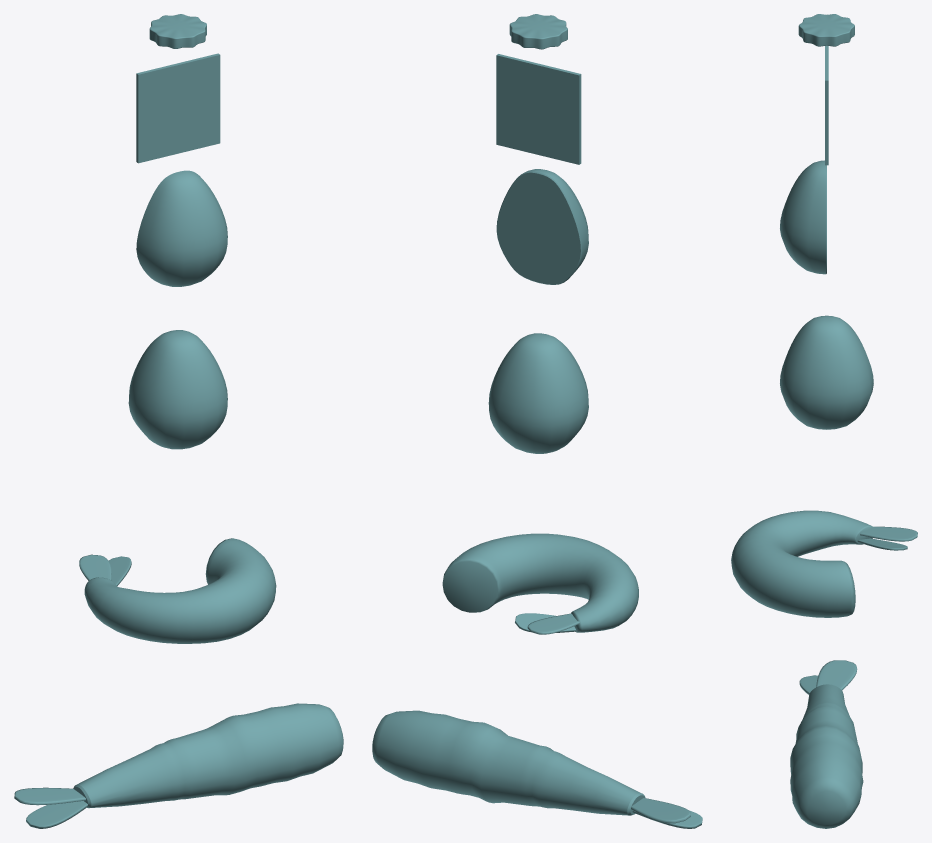
The model's file is SM_INGREDIENTES_RAMEN.fbx.
The picture shows the model from 3 angles, left to right: view 1: azimuth 30°, elevation 25°; view 2: azimuth 150°, elevation 25°; view 3: azimuth 270°, elevation 25°; orthographic projection. The views are drawn at different scales.
Parts seen in each view (by area): view 1: SM_GAMBA_2, SM_GAMBA_1, SM_EGG_2, SM_EGG_3, SM_NORI, SM_NARUTO; view 2: SM_GAMBA_2, SM_GAMBA_1, SM_EGG_2, SM_EGG_3, SM_NORI, SM_NARUTO; view 3: SM_GAMBA_1, SM_GAMBA_2, SM_EGG_2, SM_EGG_3, SM_NARUTO, SM_NORI.
Boxes of the visible parts, <box> form: SM_GAMBA_2: <box>14,703,343,828</box>; SM_GAMBA_1: <box>79,538,276,643</box>; SM_EGG_2: <box>128,330,227,449</box>; SM_EGG_3: <box>136,170,227,286</box>; SM_NORI: <box>136,53,220,163</box>; SM_NARUTO: <box>149,14,206,48</box>; SM_GAMBA_2: <box>372,710,702,828</box>; SM_GAMBA_1: <box>442,533,638,634</box>; SM_EGG_2: <box>488,333,588,453</box>; SM_EGG_3: <box>496,169,588,284</box>; SM_NORI: <box>496,54,581,164</box>; SM_NARUTO: <box>509,14,567,49</box>; SM_GAMBA_1: <box>731,510,917,617</box>; SM_GAMBA_2: <box>790,660,863,828</box>; SM_EGG_2: <box>780,315,873,429</box>; SM_EGG_3: <box>780,160,826,274</box>; SM_NARUTO: <box>798,14,854,46</box>; SM_NORI: <box>825,45,828,165</box>.
Bounding box in the file's own units: 27.57 × 65.26 × 14.87.
